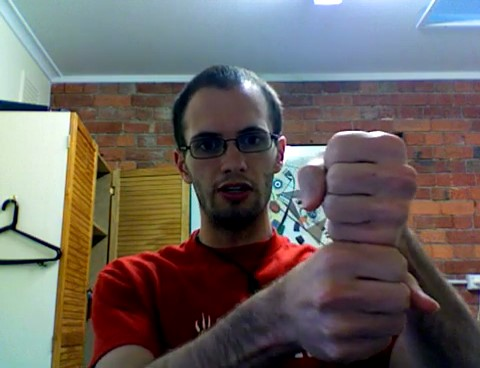G: (294, 120, 449, 365)
